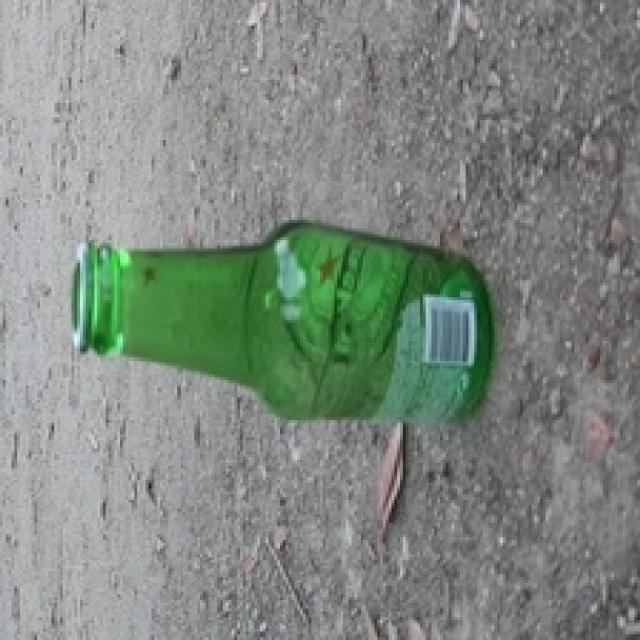Glass: (72, 217, 490, 423)
